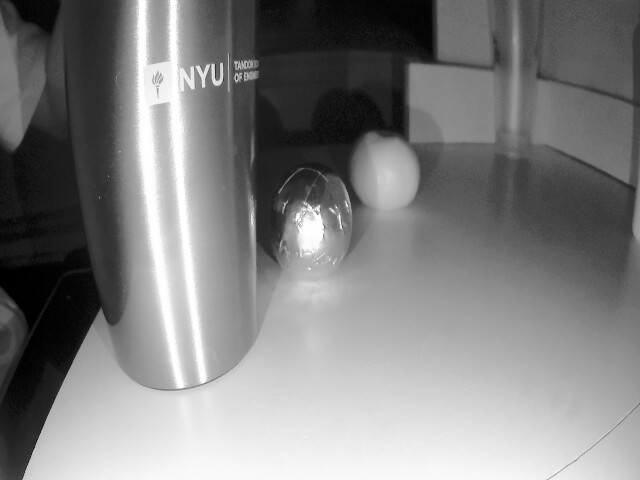black: (274, 165, 350, 261)
